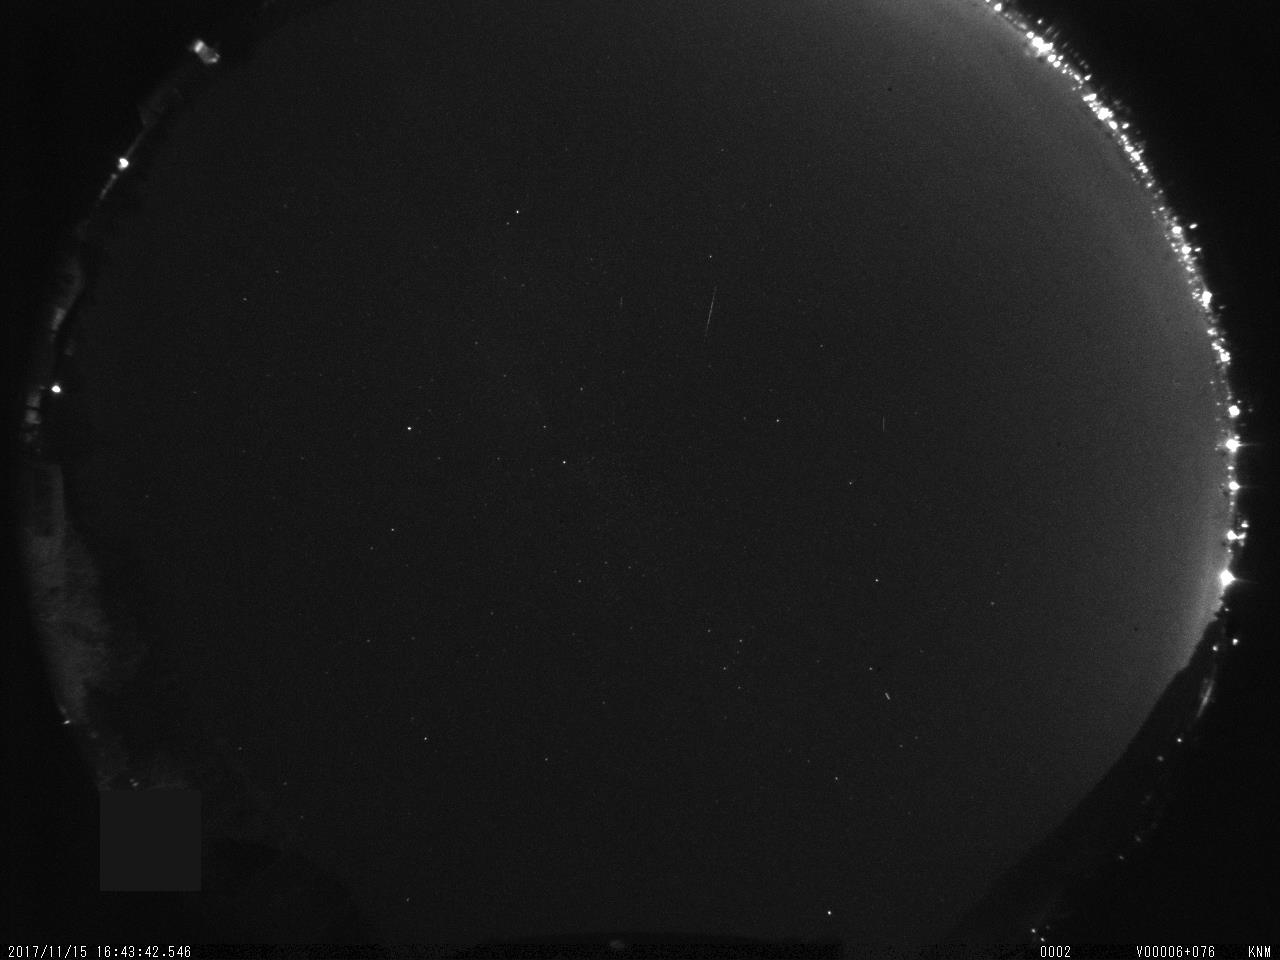meteor: (691, 280, 737, 361)
